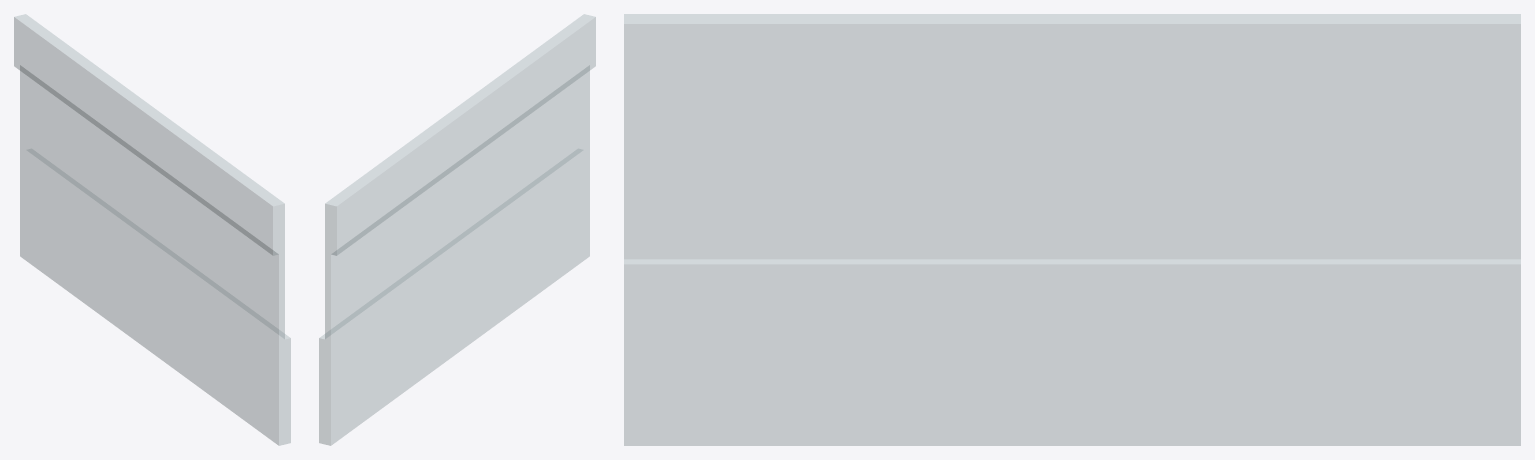
The model's file is tour_bus_open_top_windscreen.glb.
3 renders of one model, left to right at view 1: azimuth 30°, elevation 25°; view 2: azimuth 150°, elevation 25°; view 3: azimuth 270°, elevation 25°, orthographic. The views are drawn at different scales.
Visible parts, largest first — view 1: body:compound; view 2: body:compound; view 3: body:compound.
Part boxes in pixels (x1,y1,x2,y2): body:compound: [14, 14, 290, 445]; body:compound: [319, 14, 595, 445]; body:compound: [624, 14, 1520, 445].
Size of the model in its own units: 0.0938 by 1.22 by 2.38.
